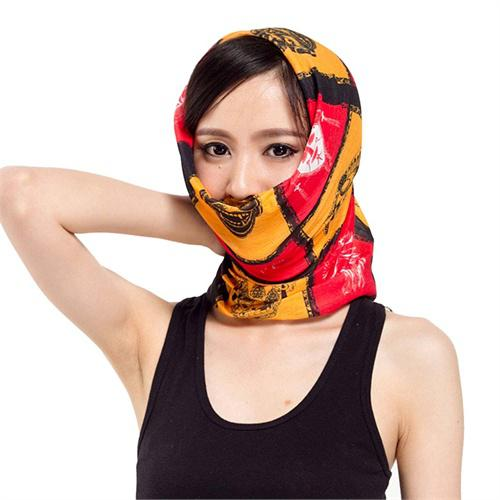WRONG: (185, 115, 330, 256)
